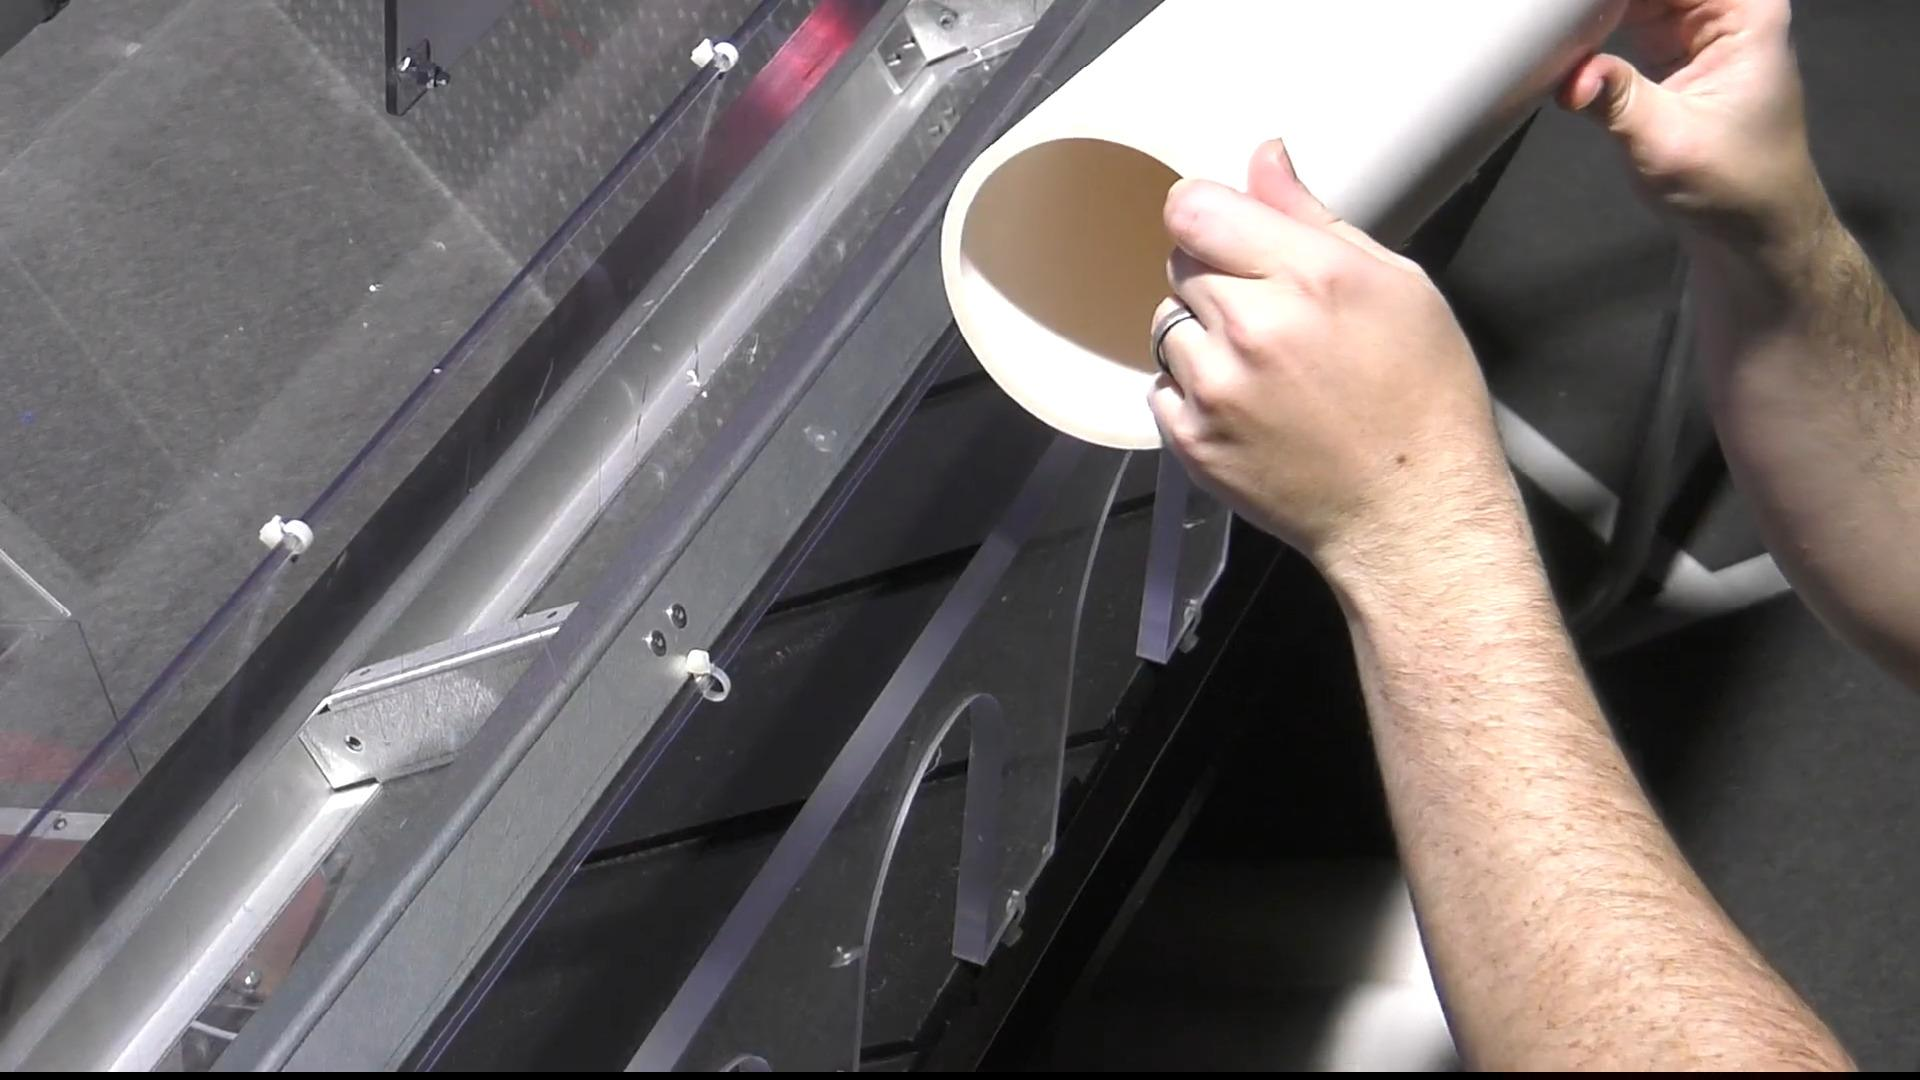coral: (938, 0, 1629, 454)
